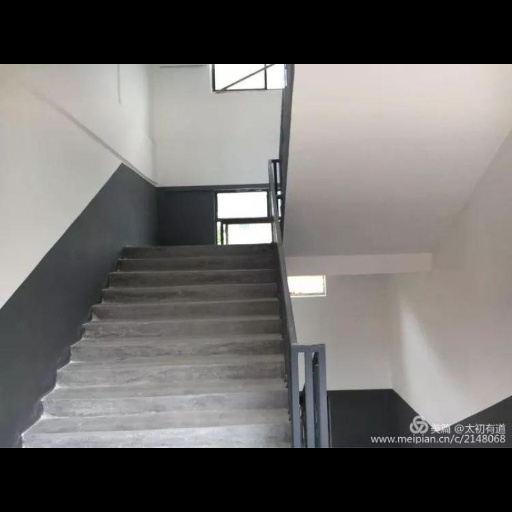Stairs: (22, 246, 291, 447)
